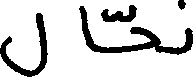ا: (80, 3, 91, 51)
ح: (126, 23, 156, 52)
ل: (0, 10, 46, 75)
ن: (178, 0, 191, 55)
